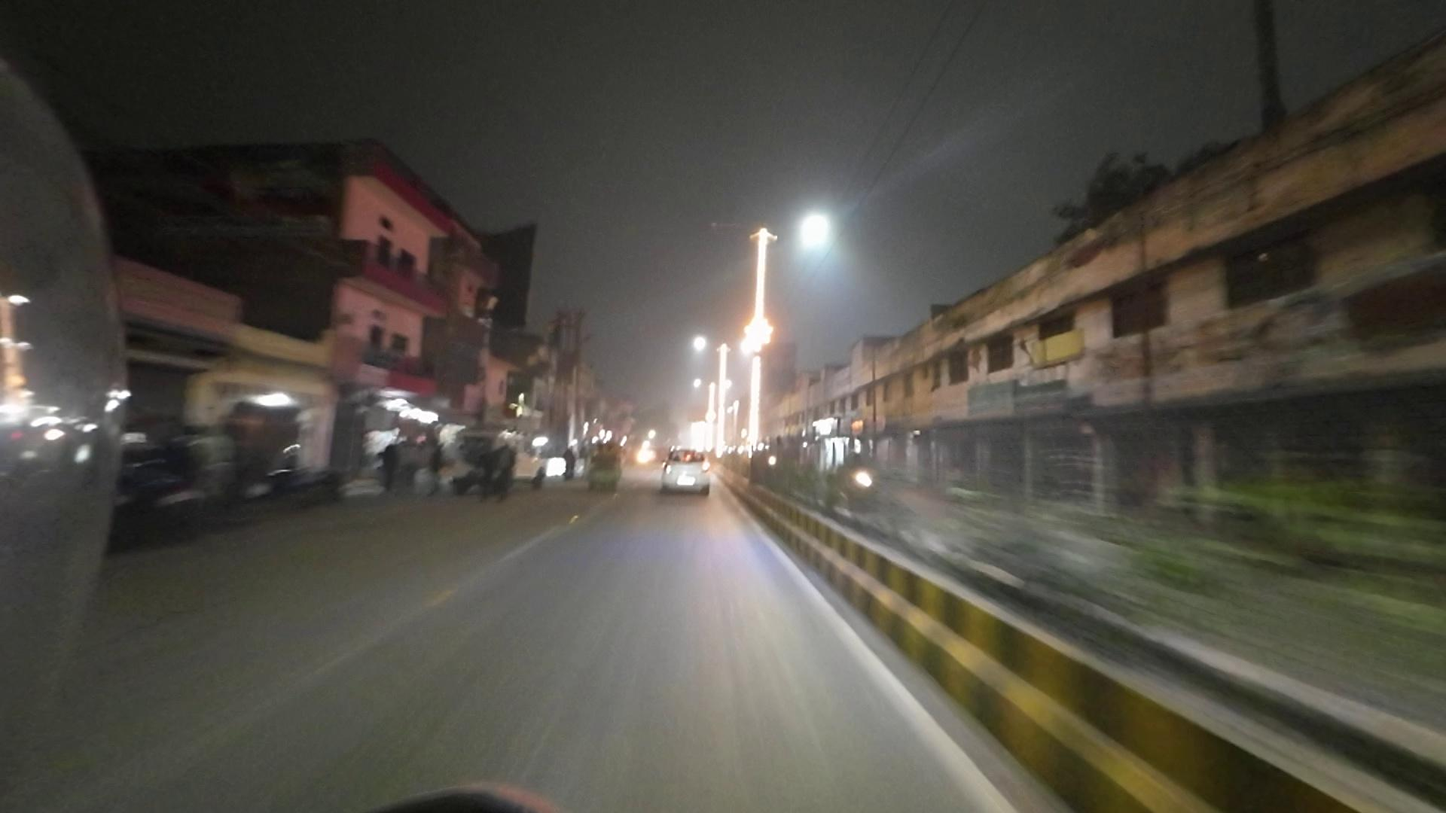streetlight: (707, 218, 748, 231)
